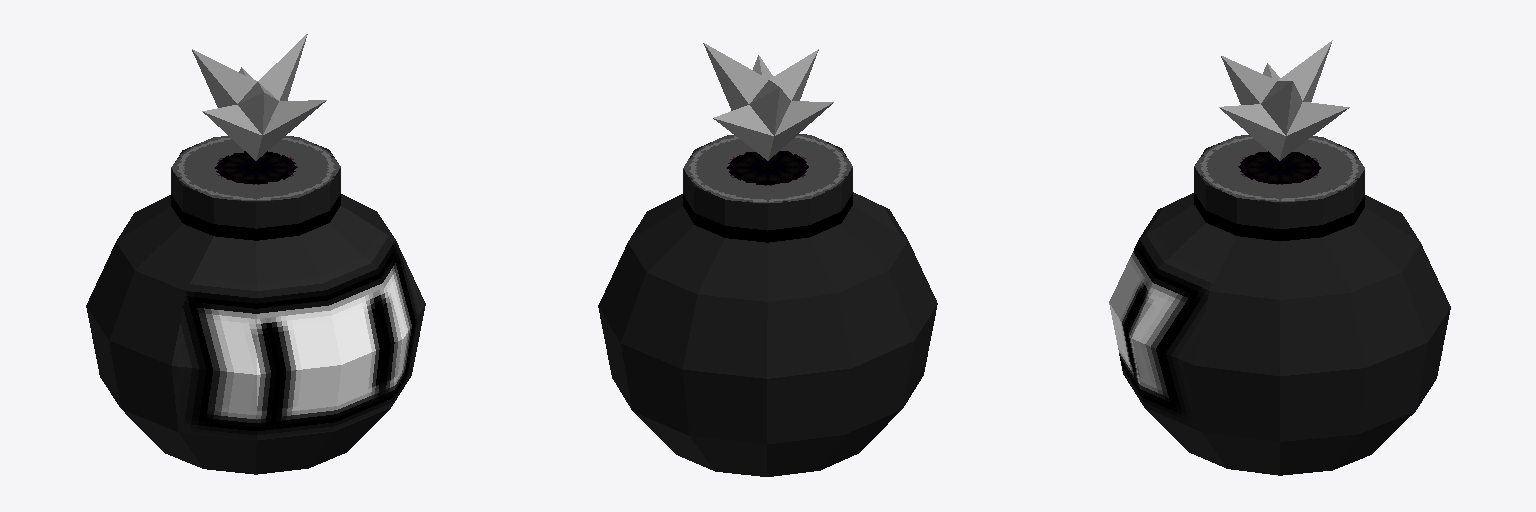
The picture shows the model from 3 angles: view 1: azimuth 30°, elevation 25°; view 2: azimuth 150°, elevation 25°; view 3: azimuth 270°, elevation 25°; orthographic projection.
Visible parts, largest first — view 1: Mesh.562_DrawCall_274; view 2: Mesh.562_DrawCall_274; view 3: Mesh.562_DrawCall_274.
Boxes of the visible parts, x1=… form: Mesh.562_DrawCall_274: x1=86, y1=34, x2=425, y2=474; Mesh.562_DrawCall_274: x1=598, y1=43, x2=937, y2=476; Mesh.562_DrawCall_274: x1=1109, y1=40, x2=1450, y2=475.
Size of the model in its own units: 10.23 by 13.59 by 10.32.
3 materials, 2 textured.